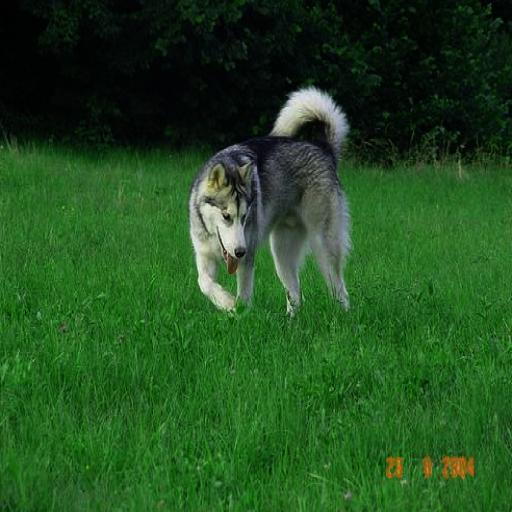dog_face: (198, 160, 261, 263)
